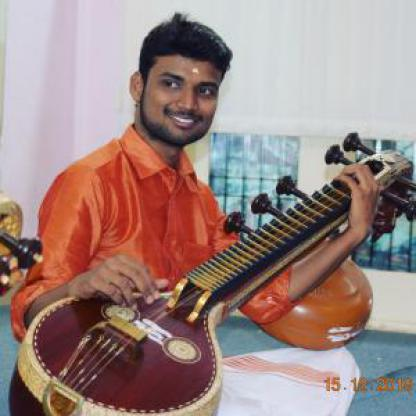Veena: (38, 190, 347, 409)
